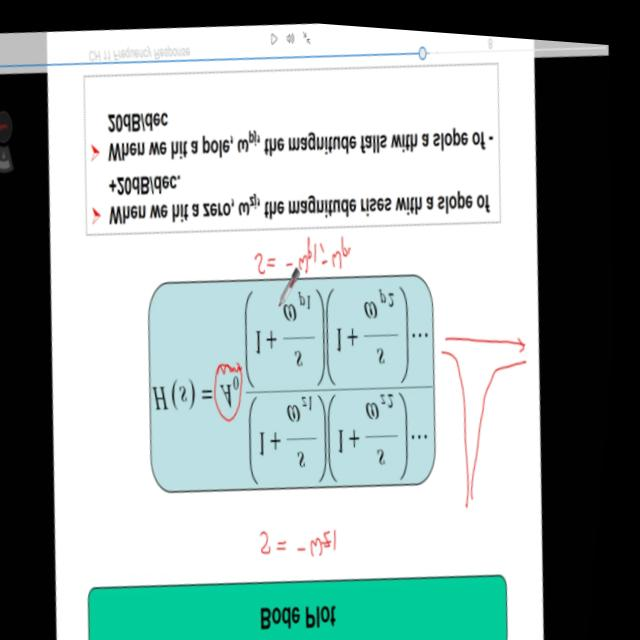panseo: (419, 273, 560, 528), (241, 209, 375, 289), (244, 499, 365, 575)
